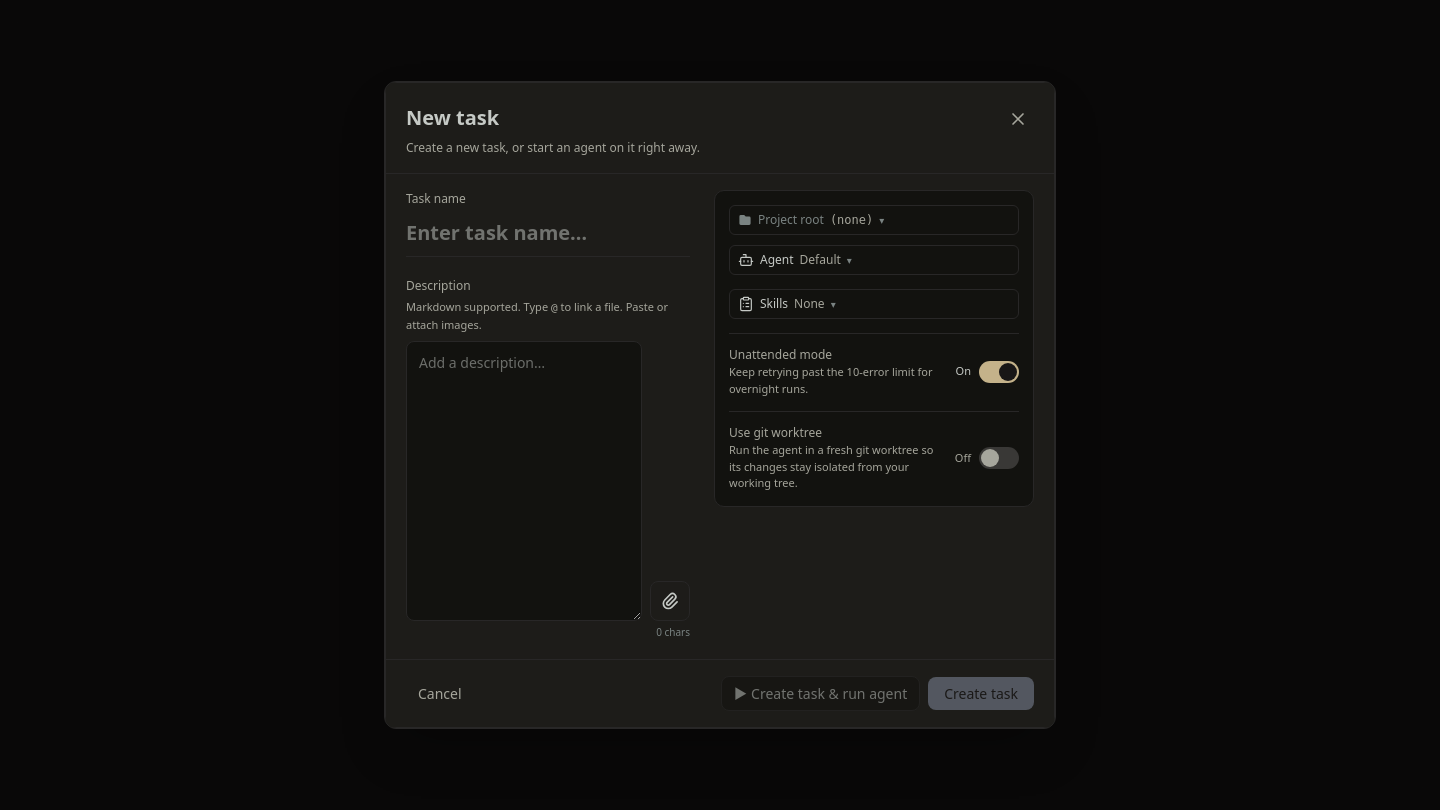
Test: KanbanTaskDetailDialog — create mode › Save button enables when name is non-empty (no "dirty" gate in create mode)
The width and height of the screenshot is (1440, 810).
Type "My task" into the field with test id "kanban-task-detail-create-name" at (548, 236), box x1=406 y1=216 x2=690 y2=257
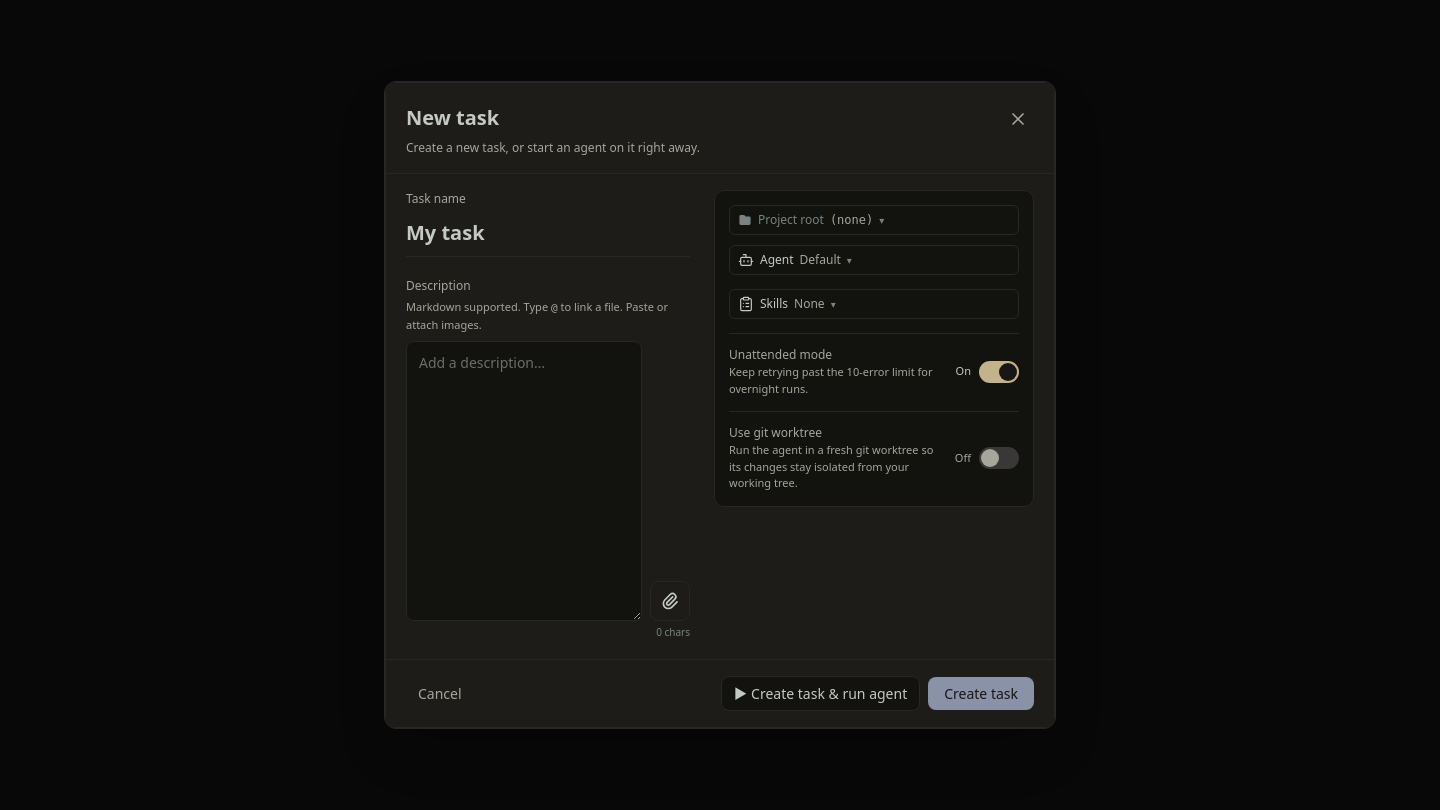
Expected: the button with test id "kanban-task-detail-save" is enabled, x1=928 y1=677 x2=1034 y2=710
